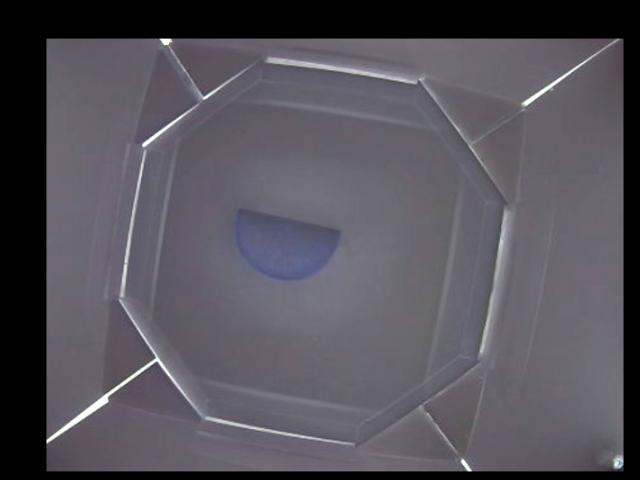Mooli: (232, 208, 339, 282)
